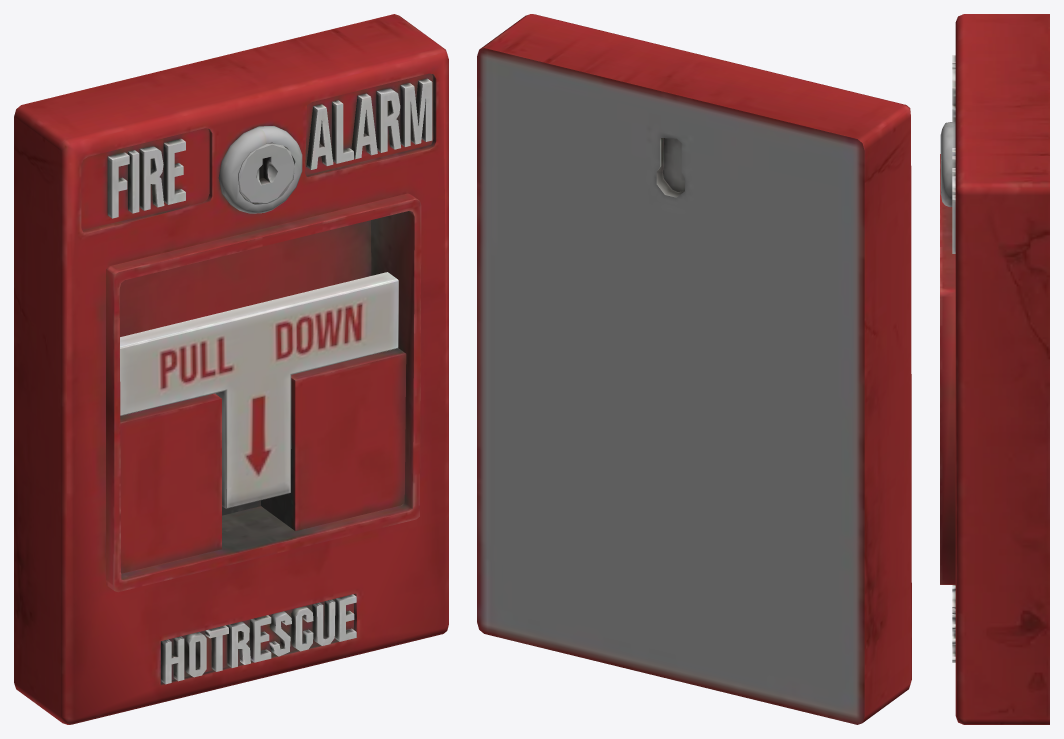
Rendered from fire_alarm.glb.
The picture shows the model from 3 angles, left to right: view 1: azimuth 30°, elevation 25°; view 2: azimuth 150°, elevation 25°; view 3: azimuth 270°, elevation 25°; orthographic projection. The views are drawn at different scales.
Visible parts, largest first — view 1: fire_alarm, fire_alarm_lever; view 2: fire_alarm; view 3: fire_alarm.
Boxes of the visible parts, x1,y1,x2,y2 form: fire_alarm: (14, 14, 448, 724); fire_alarm_lever: (120, 272, 398, 508); fire_alarm: (477, 14, 911, 724); fire_alarm: (940, 14, 1049, 724).
Bounding box in the file's own units: 0.0994 × 0.1436 × 0.0264.
Materials: 1 (1 with a texture image).
